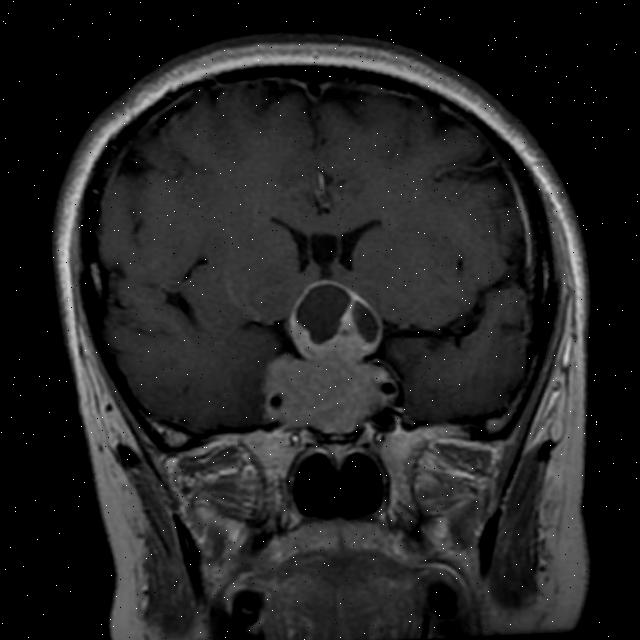Pituitary: (252, 275, 396, 437)
